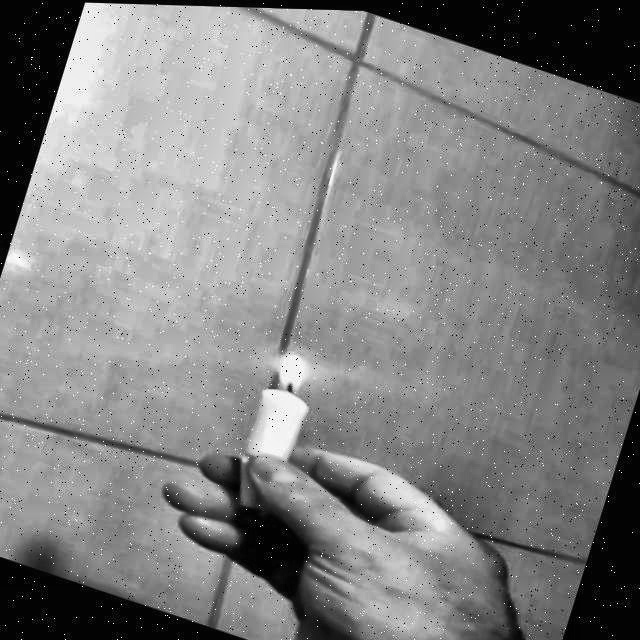Fire: (265, 340, 316, 395)
